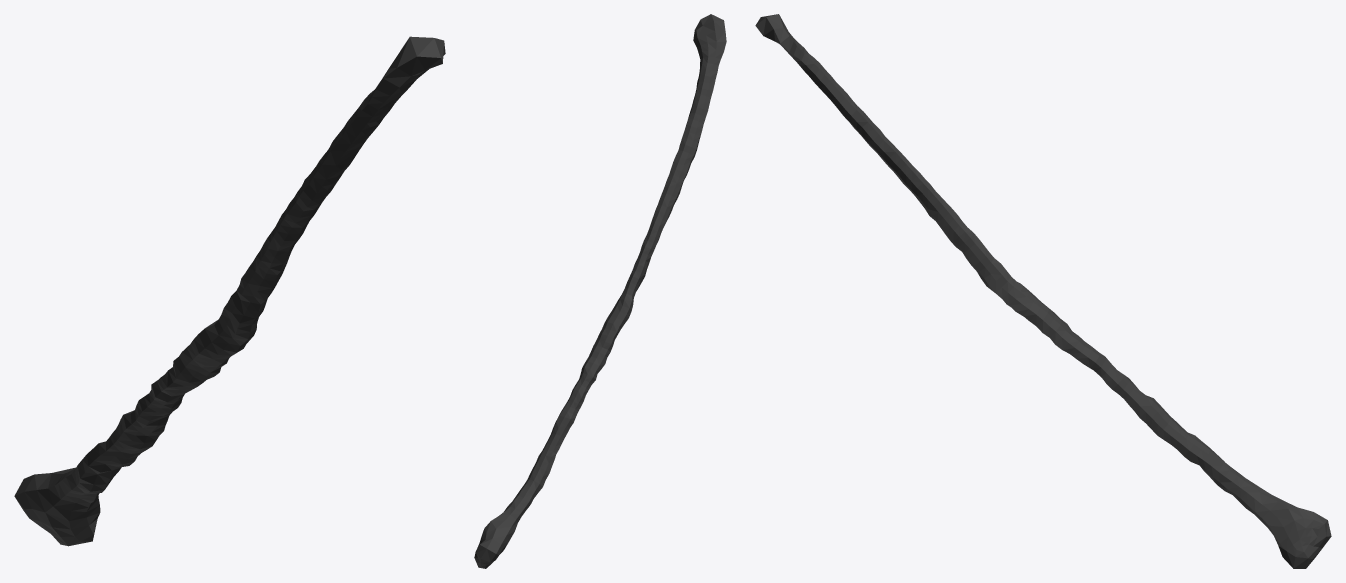
File: Fibula.glb
3 views of the same model, side by side, from view 1: azimuth 30°, elevation 25°; view 2: azimuth 150°, elevation 25°; view 3: azimuth 270°, elevation 25° (orthographic). The views are drawn at different scales.
Visible parts, largest first — view 1: Fibula; view 2: Fibula; view 3: Fibula.
Part boxes in pixels (box(x1,y1,x2,y2)): Fibula: box(14, 36, 445, 546); Fibula: box(474, 14, 726, 568); Fibula: box(755, 14, 1331, 568).
Bounding box in the file's own units: 1.12 × 7.67 × 7.49.
Materials: 1 (1 with a texture image).
